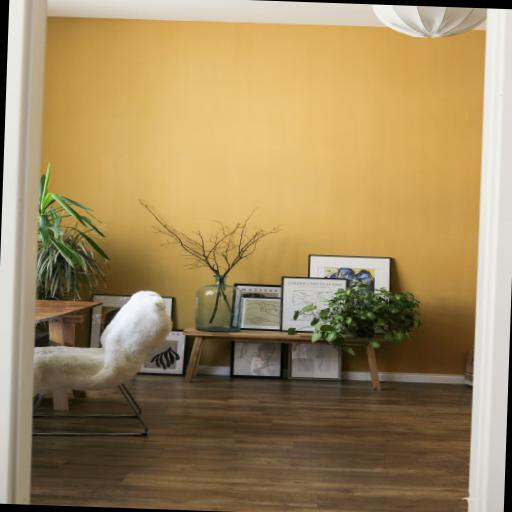chair: (30, 286, 173, 439)
desk: (30, 298, 102, 410)
wall: (34, 14, 484, 375)
